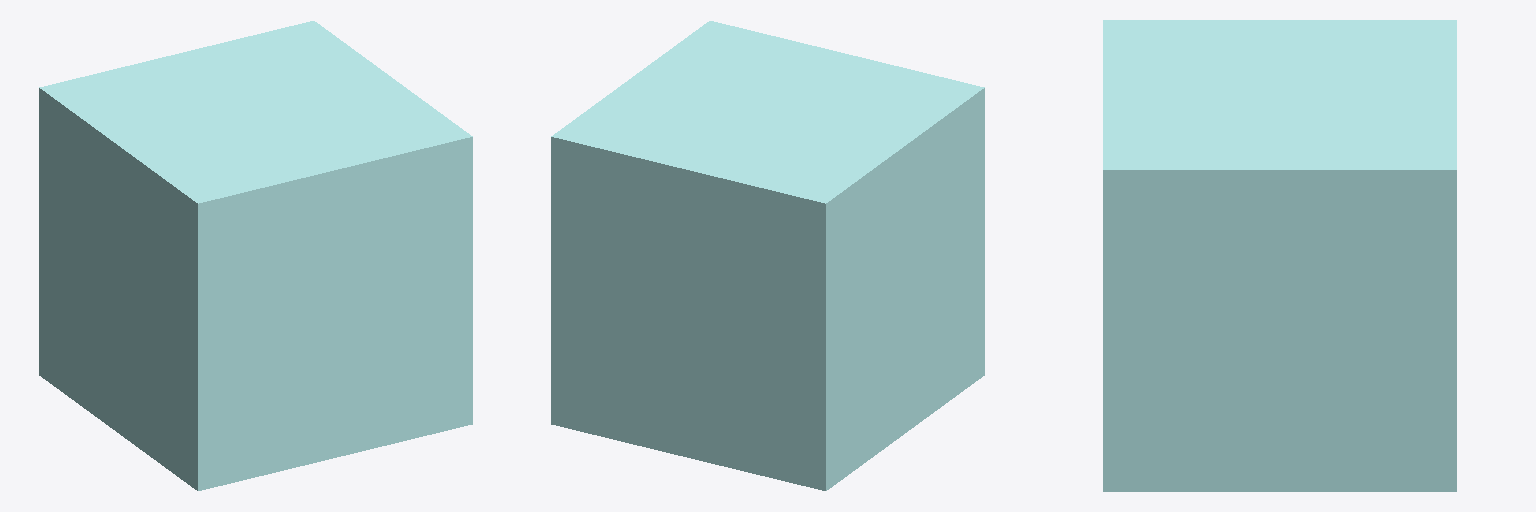
robot.urdf — block_2:
<?xml version="1.0"?>
<robot name="block_2">
  <link name="block_2_base_link">
    <contact>
      <lateral_friction value="0.5"/>
      <spinning_friction value=".001"/>
    </contact>
    <inertial>
      <origin rpy="0 0 0" xyz="0 0 0"/>
      <mass value="0.5"/>
      <inertia ixx="0.0000001" ixy="0" ixz="0" iyy="0.0000001" iyz="0" izz="0.0000001"/>
    </inertial>
    <visual>
      <origin rpy="0 0 0" xyz="0.0 0.0 0.0"/>
      <geometry>
        <box size="0.05 0.05 0.05"/>
      </geometry>
      <material name="blockmat">
        <color rgba="0.8 1 1 1"/>
      </material>
    </visual>
    <collision>
      <origin rpy="0 0 0" xyz="0.0 0.0 0.0"/>
      <geometry>
        <box size="0.05 0.05 0.05"/>
      </geometry>
    </collision>
  </link>
</robot>

--- What the picture shows (computed from the rendered views, not written in the file) ---
The picture shows the robot from 3 angles, left to right: view 1: azimuth 30°, elevation 25°; view 2: azimuth 150°, elevation 25°; view 3: azimuth 270°, elevation 25°; orthographic projection.
Model block_2 with 1 links and 0 joints (none), rooted at block_2_base_link, posed all joints at 0.
Links seen in each view (by area): view 1: block_2_base_link; view 2: block_2_base_link; view 3: block_2_base_link.
Link boxes in pixels (x1,y1,x2,y2): block_2_base_link: [39, 21, 472, 490]; block_2_base_link: [551, 21, 984, 490]; block_2_base_link: [1103, 20, 1456, 491].
Size in the robot's own frame: 0.05 by 0.05 by 0.05 metres.
Geometry: primitives only (box / cylinder / sphere), no mesh files.